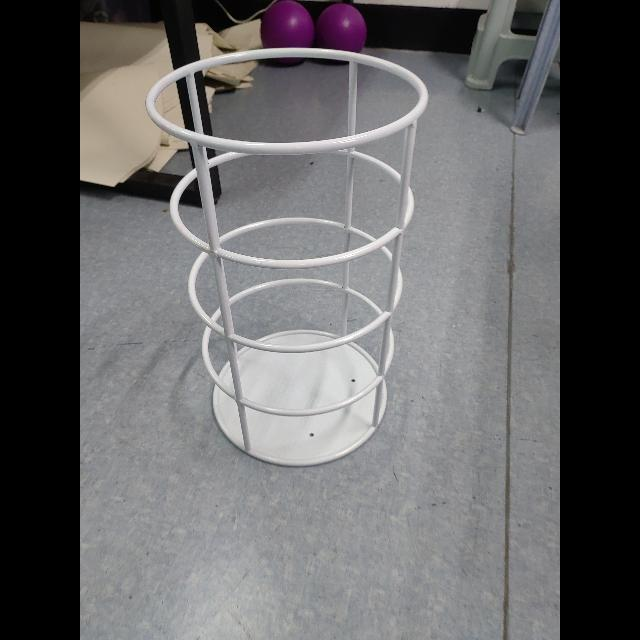S: (144, 47, 432, 470)
